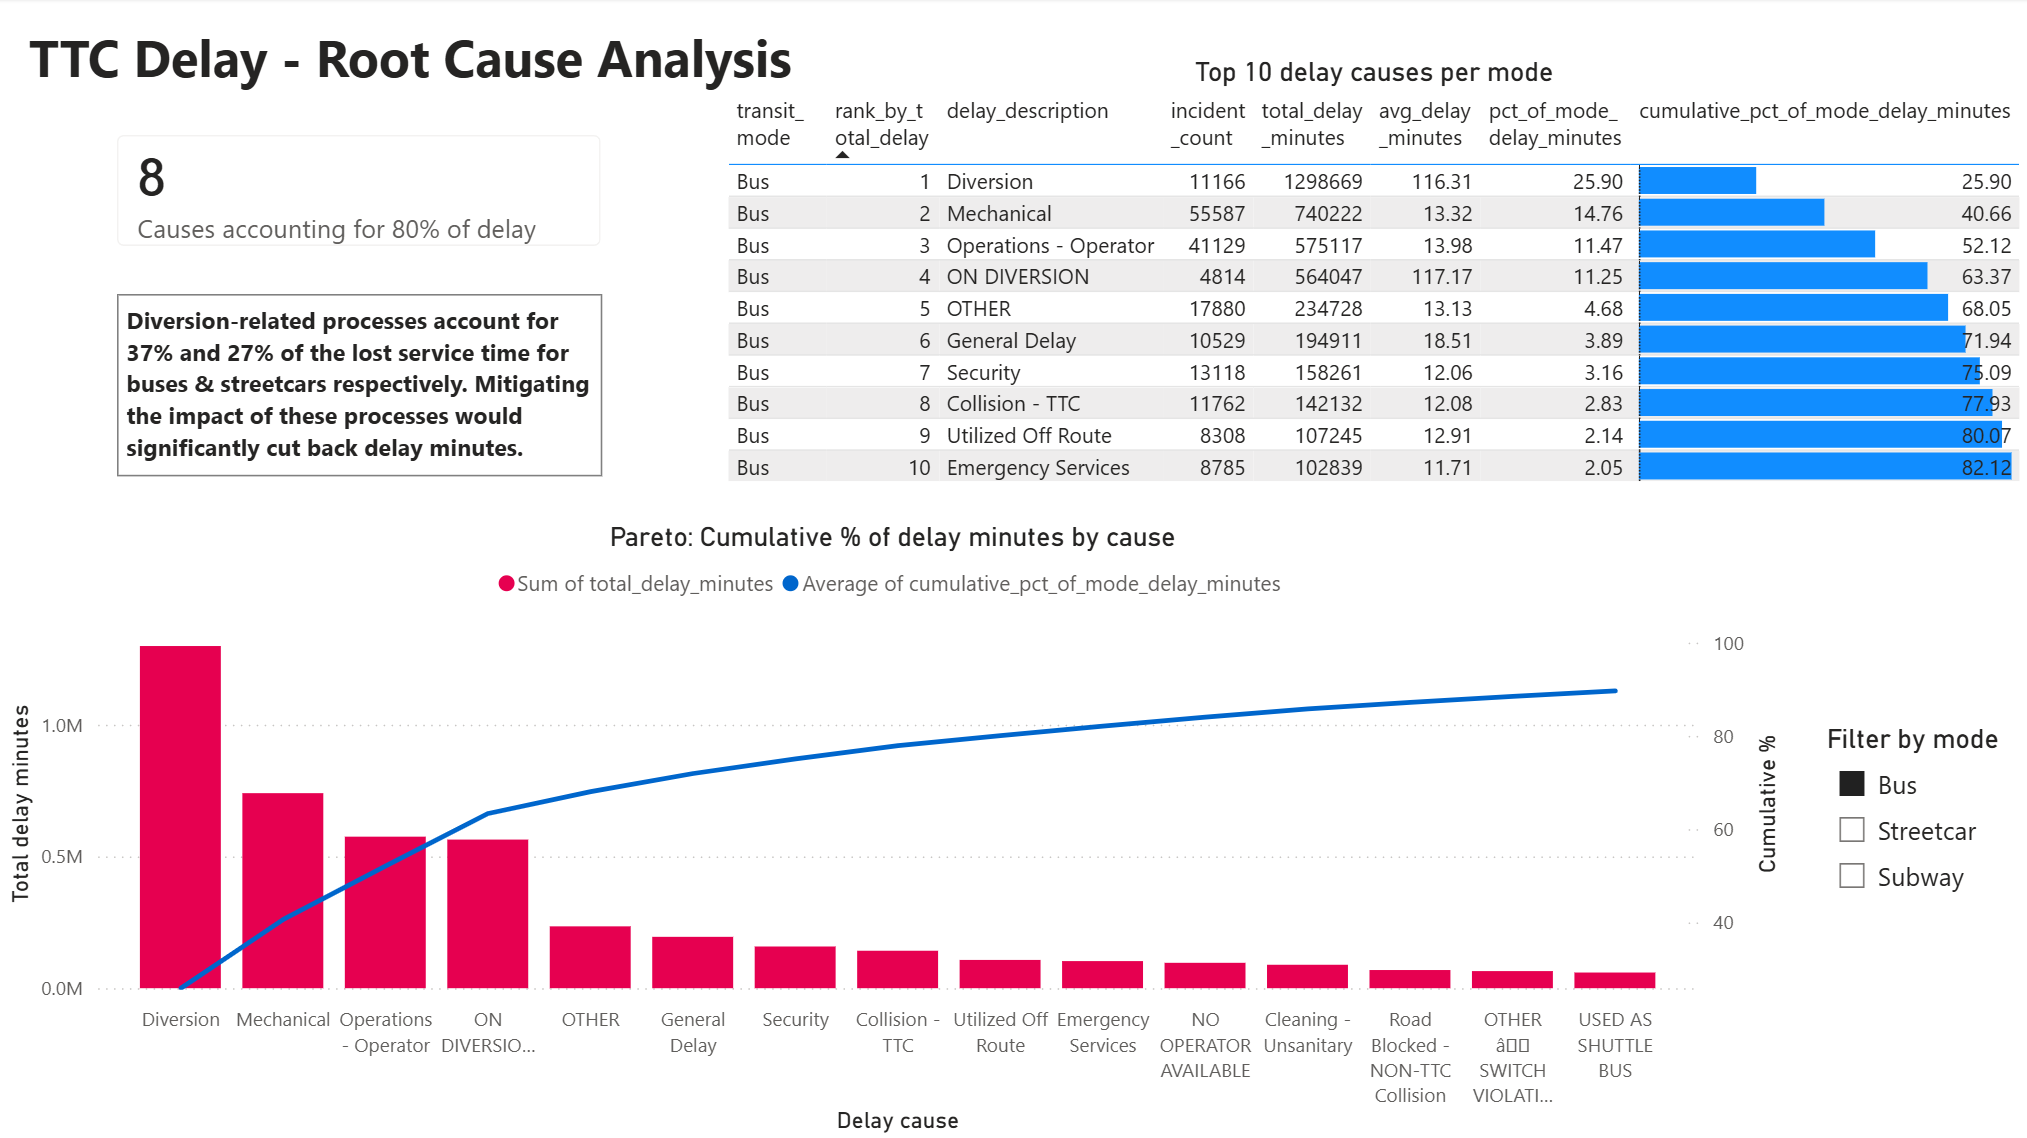

What the dashboard file says about the page in this screenshot:
{"tool":"powerbi","page":{"name":"Root Cause","canvas":[1280,720],"ordinal":1},"visuals":[{"type":"tableEx","title":"Top 10 delay causes per mode","fields":{"Values":["public vw_top_causes_by_mode.transit_mode","public vw_top_causes_by_mode.rank_by_total_delay","public vw_top_causes_by_mode.delay_description","public vw_top_causes_by_mode.incident_count","public vw_top_causes_by_mode.total_delay_minutes","public vw_top_causes_by_mode.avg_delay_minutes","public vw_top_causes_by_mode.pct_of_mode_delay_minutes","public vw_top_causes_by_mode.cumulative_pct_of_mode_delay_minutes"]},"box":[453.9,36.5,826.1,300],"z":0},{"type":"cardVisual","fields":{"Data":["public vw_top_causes_by_mode.Causes to 80%"]},"box":[57.5,69.2,339.6,104.9],"z":1000},{"type":"slicer","title":"Filter by mode","fields":{"Values":["public dim_mode.transit_mode"]},"box":[1147.8,457.4,119.8,115.8],"z":2000},{"type":"lineClusteredColumnComboChart","title":"Pareto: Cumulative % of delay minutes by cause","fields":{"Category":["public vw_top_causes_by_mode.delay_description"],"Y":["Sum(public vw_top_causes_by_mode.total_delay_minutes)"],"Y2":["Avg(public vw_top_causes_by_mode.cumulative_pct_of_mode_delay_minutes)"]},"box":[0,329.5,1126.9,390.9],"z":3000},{"type":"textbox","box":[74.6,186.5,306.2,115],"z":4000},{"type":"textbox","box":[9.3,10.1,499.7,52.8],"z":5000}]}

Visuals, with their boxes in screenshot pixels (x1, y1, x2, y2), scaled from the page's 1280x720 canvas onto the 2027x1138 screenshot:
"Top 10 delay causes per mode" tableEx: rect(719, 58, 2026, 532)
cardVisual - public vw_top_causes_by_mode.Causes to 80%: rect(91, 109, 629, 275)
"Filter by mode" slicer: rect(1818, 723, 2007, 906)
"Pareto: Cumulative % of delay minutes by cause" lineClusteredColumnComboChart: rect(0, 521, 1785, 1137)
textbox: rect(118, 295, 603, 477)
textbox: rect(15, 16, 806, 99)
